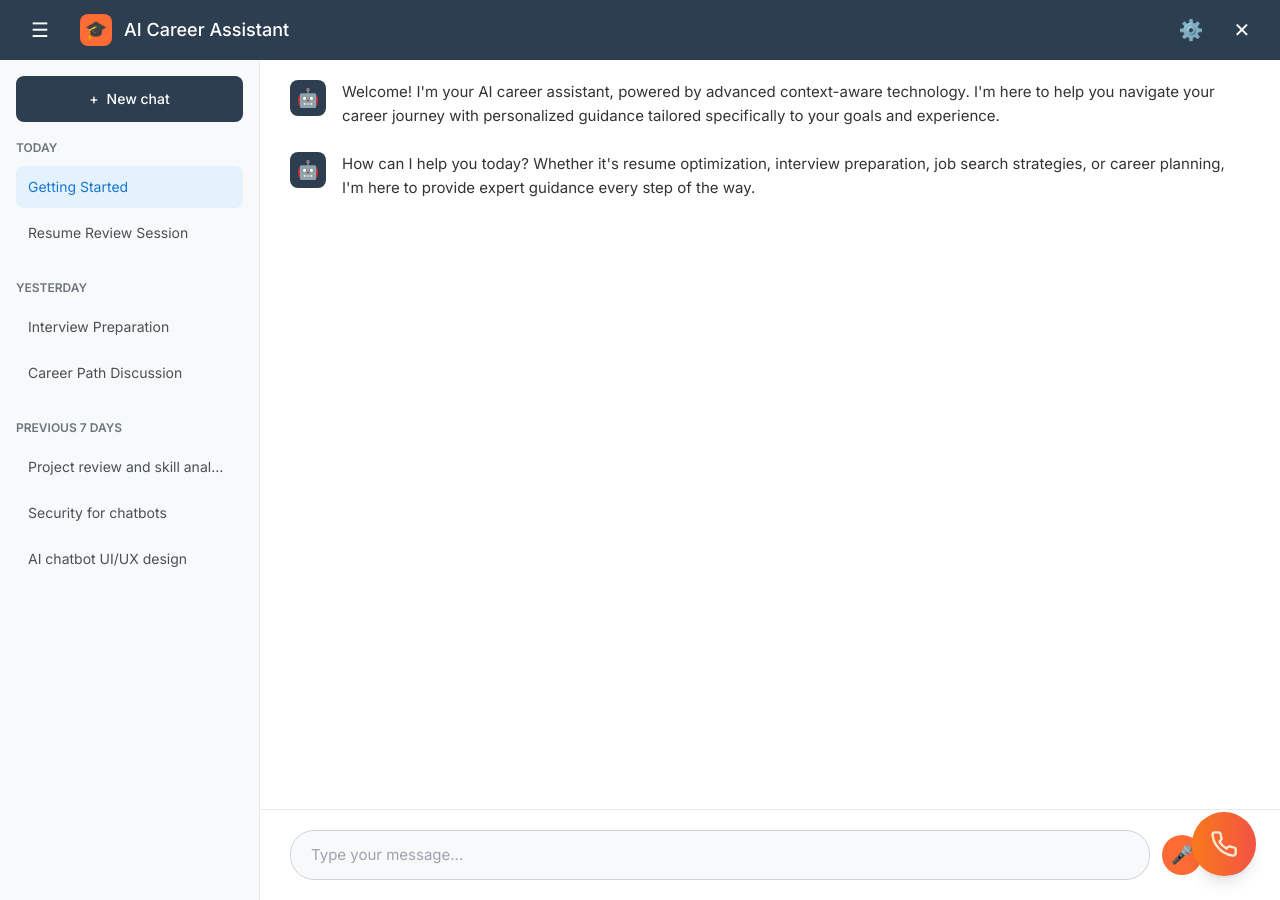
ChatInterface › handles Enter key to send message
The image size is (1280, 900).
Type "Test message" into the field with placeholder "Type your message..." at (720, 855), box [290,830,1150,880]
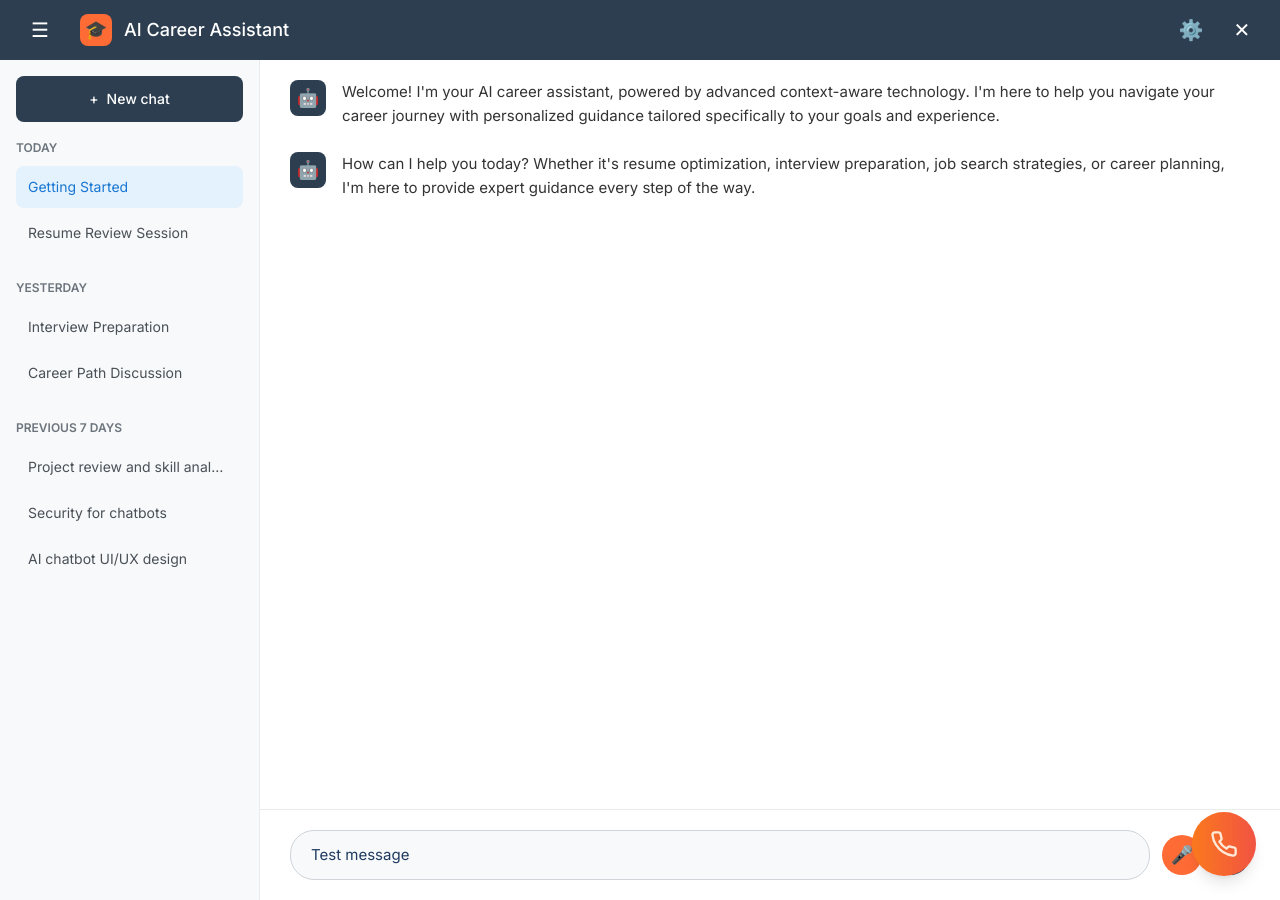
Press Enter in the field with placeholder "Type your message...", box [290,830,1150,880]
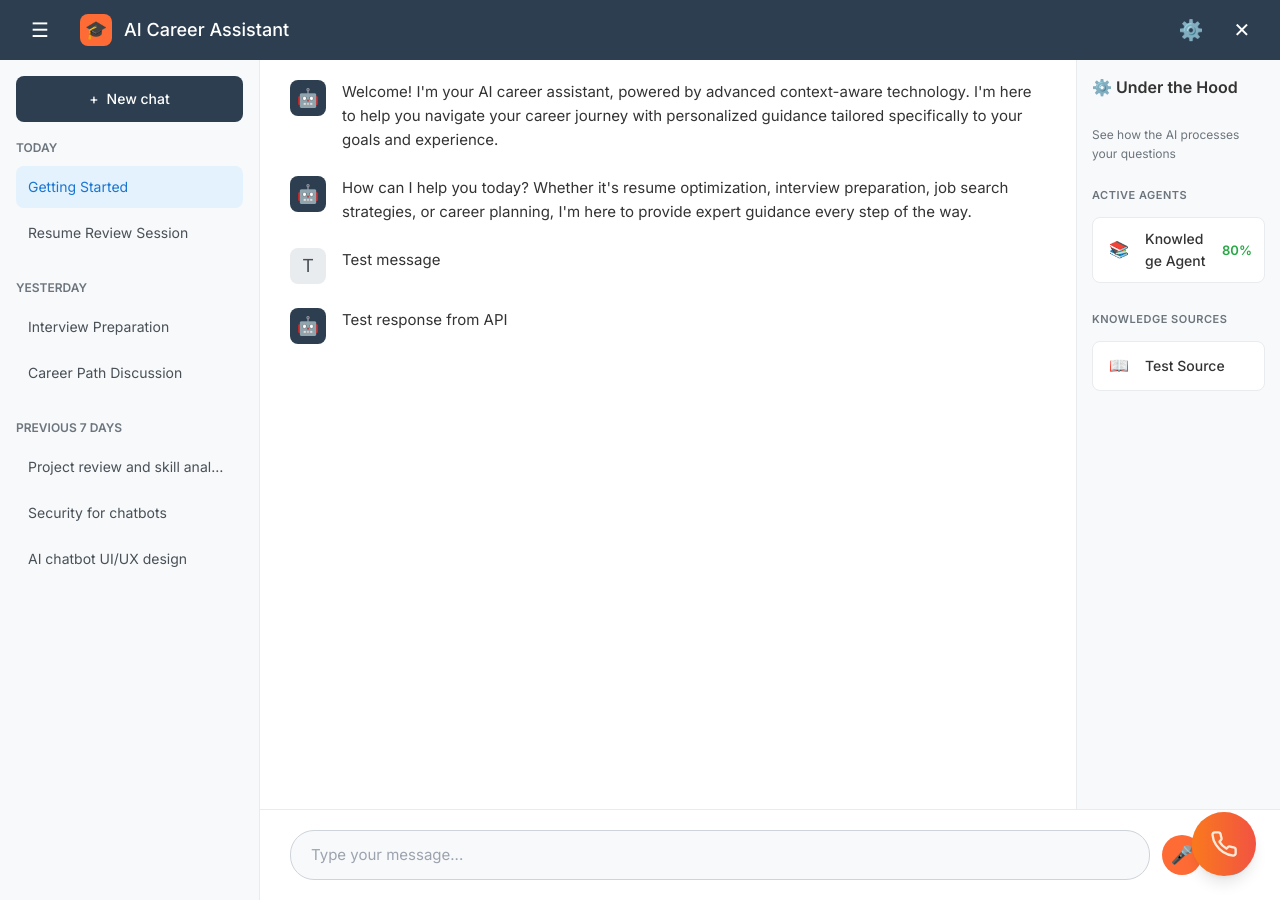
Result: the text "Test message" is shown at [342,250,440,269]
